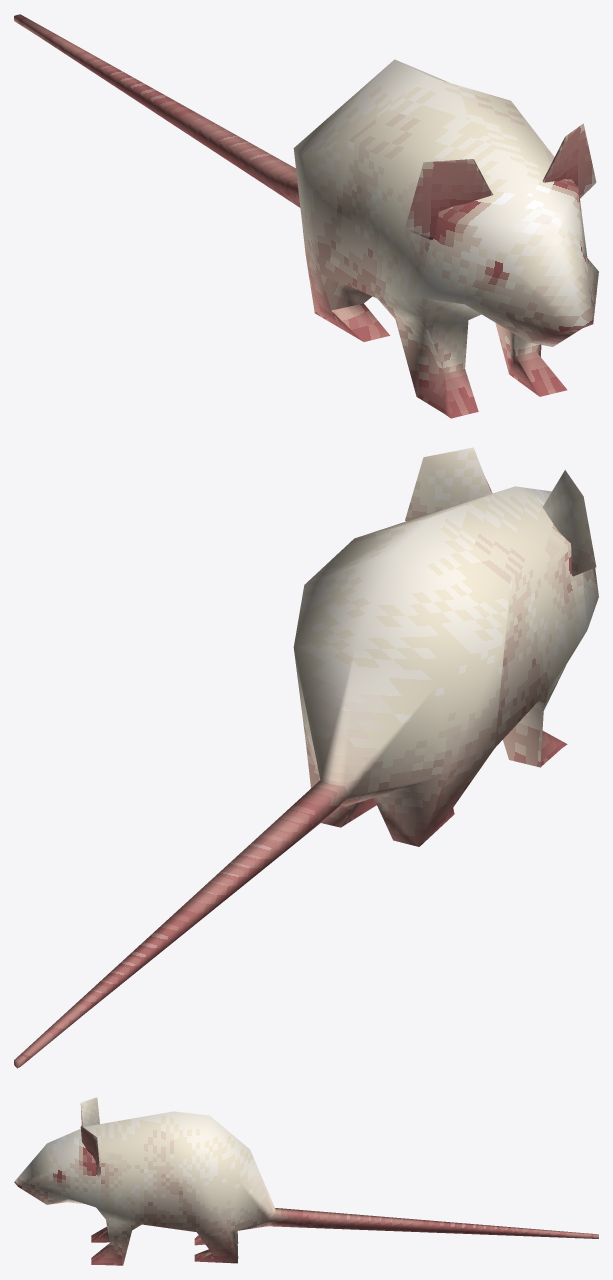
Rendered from rat.glb.
3 views of the same model, one above another, from view 1: azimuth 30°, elevation 25°; view 2: azimuth 150°, elevation 25°; view 3: azimuth 270°, elevation 25° (orthographic). The views are drawn at different scales.
Parts seen in each view (by area): view 1: Cube; view 2: Cube; view 3: Cube.
Part boxes in pixels (box(x1,y1,x2,y2)): Cube: box(14, 14, 598, 418); Cube: box(14, 447, 598, 1068); Cube: box(14, 1097, 598, 1265).
Size of the model in its own units: 0.1615 by 0.2064 by 0.7879.
1 material, 1 textured.
